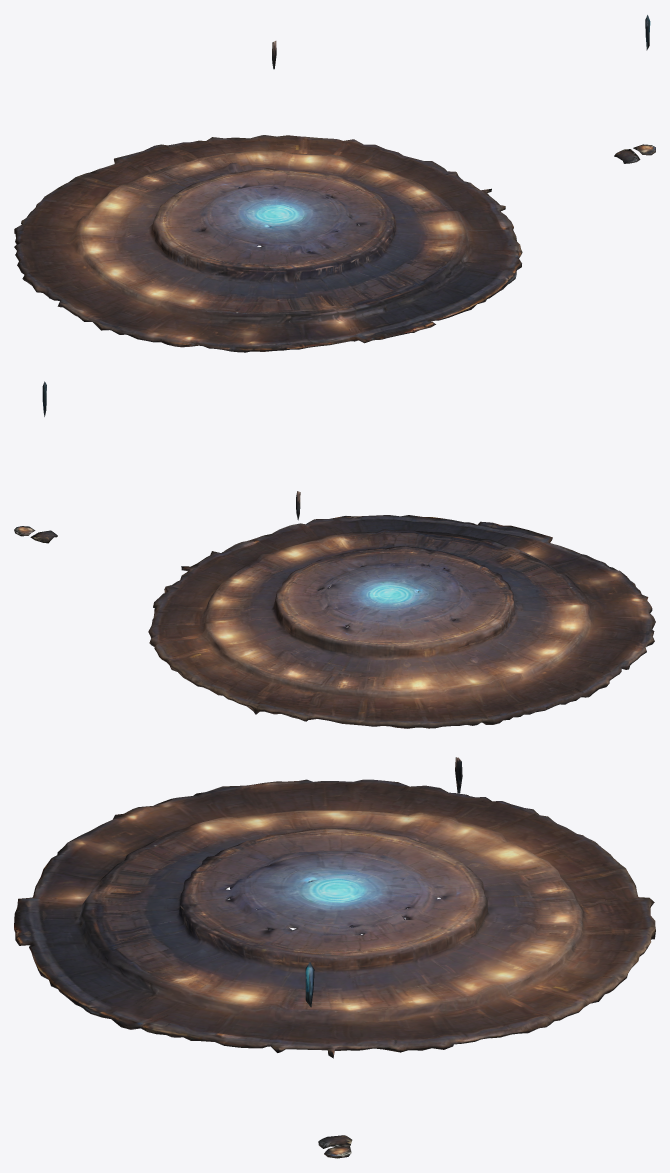
The model's file is Arène_fantastique_3D_0610183510_texture.obj.
3 views of the same model, one above another, from view 1: azimuth 30°, elevation 25°; view 2: azimuth 150°, elevation 25°; view 3: azimuth 270°, elevation 25° (orthographic). The views are drawn at different scales.
Visible parts, largest first — view 1: Arène_fantastique_3D_0610183510_texture; view 2: Arène_fantastique_3D_0610183510_texture; view 3: Arène_fantastique_3D_0610183510_texture.
Part boxes in pixels (box(x1,y1,x2,y2)): Arène_fantastique_3D_0610183510_texture: box(14, 15, 655, 352); Arène_fantastique_3D_0610183510_texture: box(14, 381, 655, 728); Arène_fantastique_3D_0610183510_texture: box(14, 757, 655, 1158).
Size of the model in its own units: 2 by 0.5051 by 1.44.
1 material, 1 textured.
